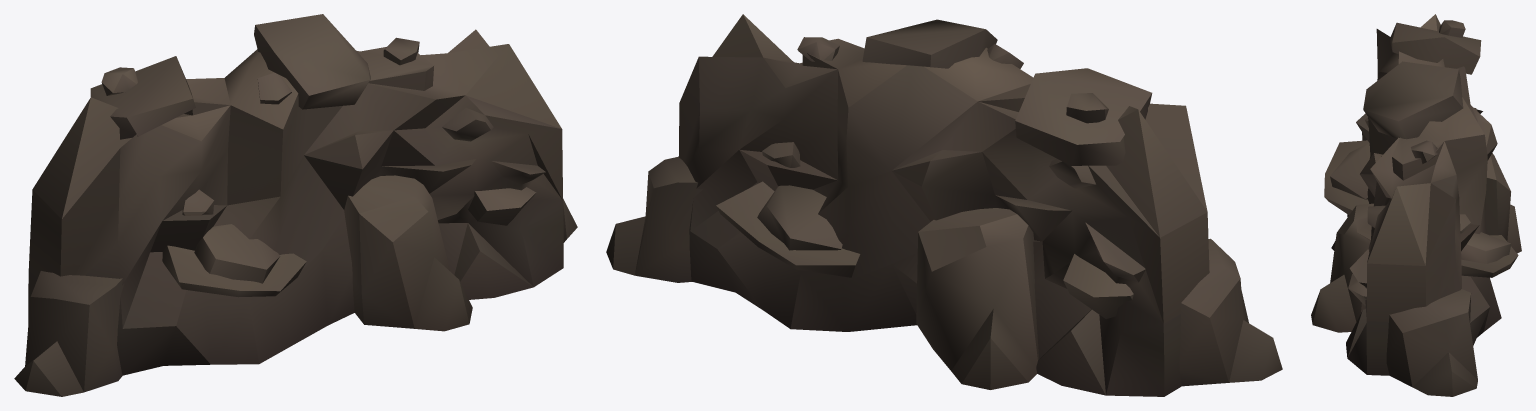
The model's file is rubble-large.glb.
3 renders of one model, left to right at view 1: azimuth 30°, elevation 25°; view 2: azimuth 150°, elevation 25°; view 3: azimuth 270°, elevation 25°, orthographic. The views are drawn at different scales.
Visible parts, largest first — view 1: rubble-large; view 2: rubble-large; view 3: rubble-large.
Boxes of the visible parts, x1,y1,x2,y2 form: rubble-large: (14, 14, 577, 396); rubble-large: (606, 14, 1282, 396); rubble-large: (1311, 14, 1521, 396).
Bounding box in the file's own units: 5.12 × 2.2 × 2.
